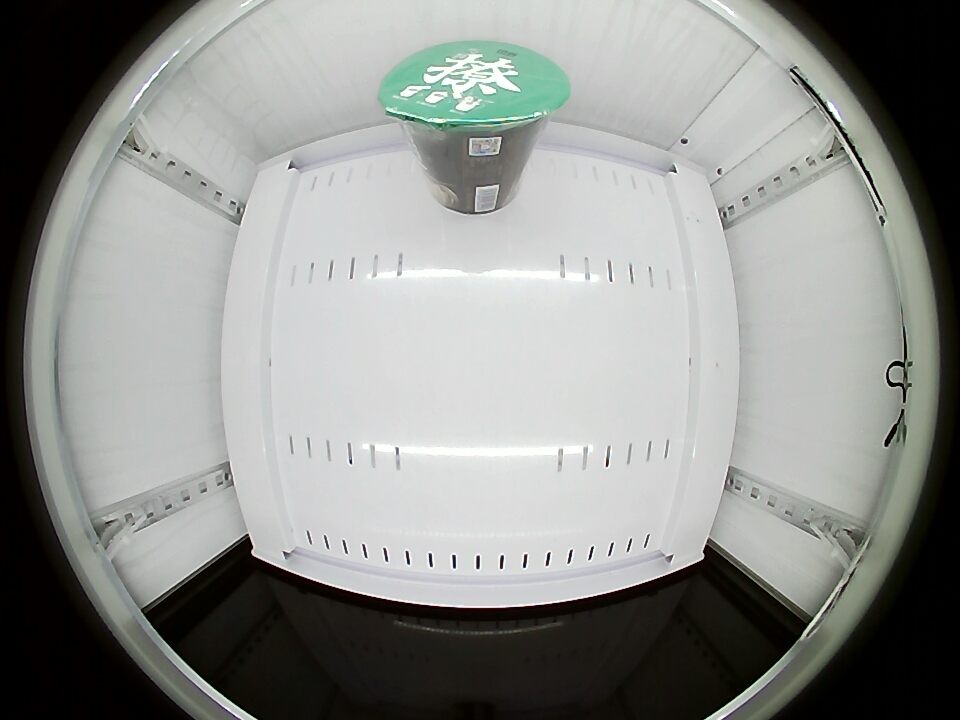liaomian: (378, 43, 570, 150)
